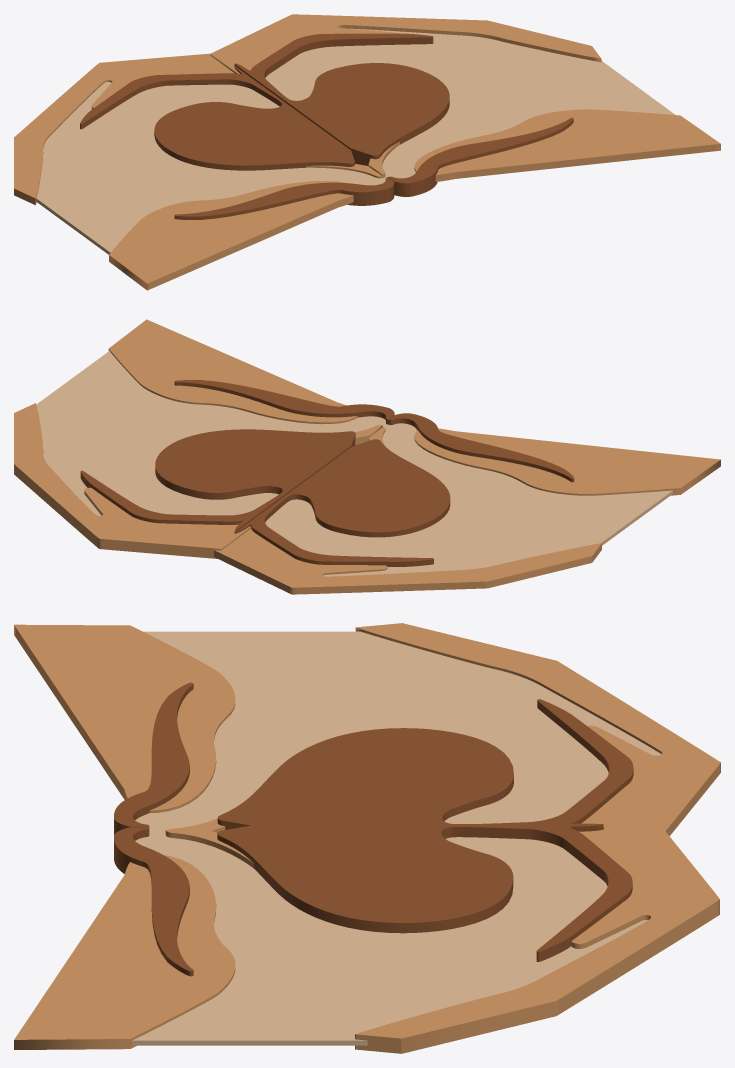
The model's file is emoji_u1faf6_1f3fc.glb.
The picture shows the model from 3 angles, top to bottom: view 1: azimuth 30°, elevation 25°; view 2: azimuth 150°, elevation 25°; view 3: azimuth 270°, elevation 25°; orthographic projection. The views are drawn at different scales.
Visible parts, largest first — view 1: emoji_u1faf6_1f3fc; view 2: emoji_u1faf6_1f3fc; view 3: emoji_u1faf6_1f3fc.
Part boxes in pixels (box(x1,y1,x2,y2)): emoji_u1faf6_1f3fc: box(14, 14, 720, 290); emoji_u1faf6_1f3fc: box(14, 319, 720, 594); emoji_u1faf6_1f3fc: box(14, 623, 720, 1053).
Size of the model in its own units: 0.0353 by 0.001 by 0.0252.
